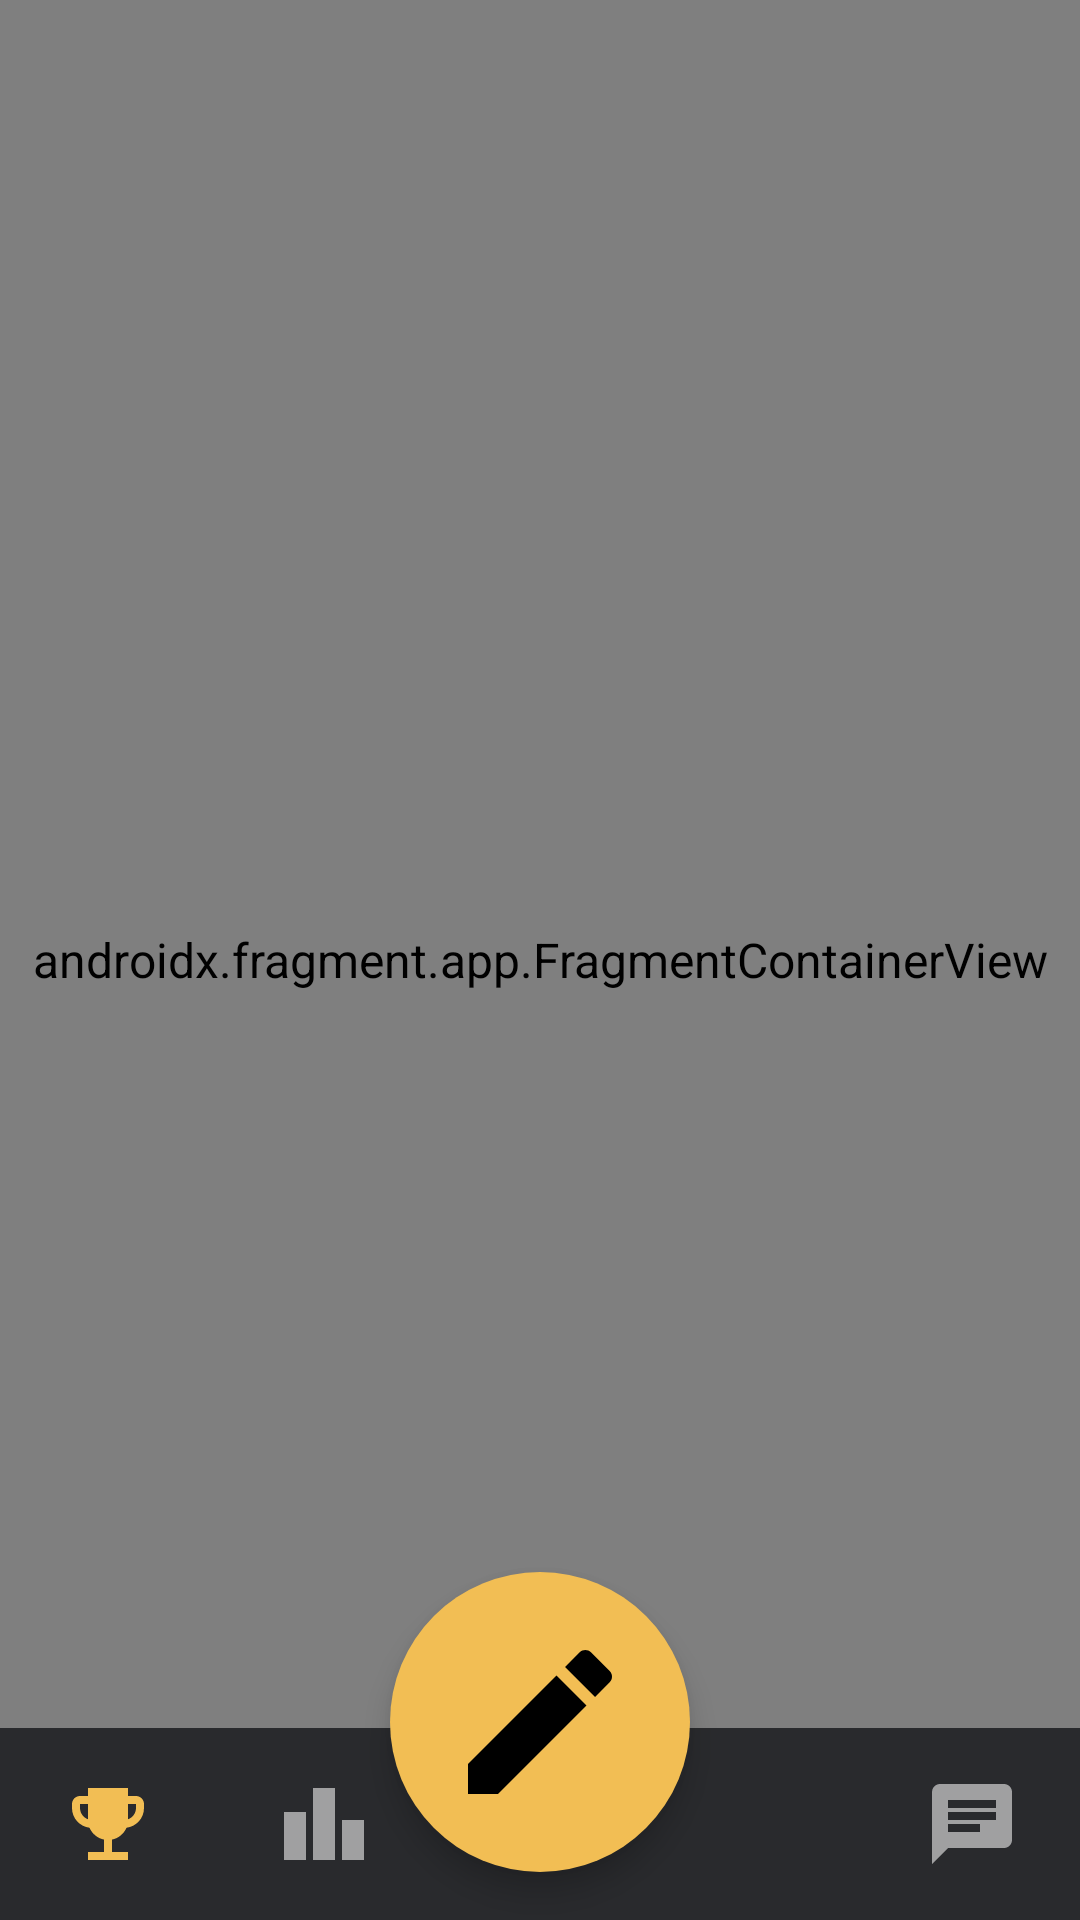

Named icons in this screenshot (1080w x 1920h) and their centers, point (x, y):
pencil: point (540, 1722)
